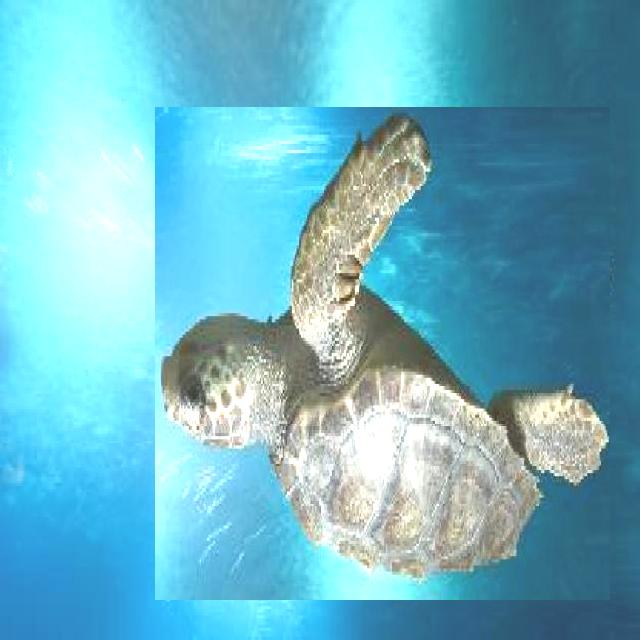Sea turtle: (156, 107, 612, 600)
